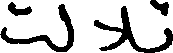ة: (0, 0, 46, 46)
ت: (151, 0, 171, 51)
ل: (59, 2, 73, 51)
لا: (94, 4, 129, 51)
